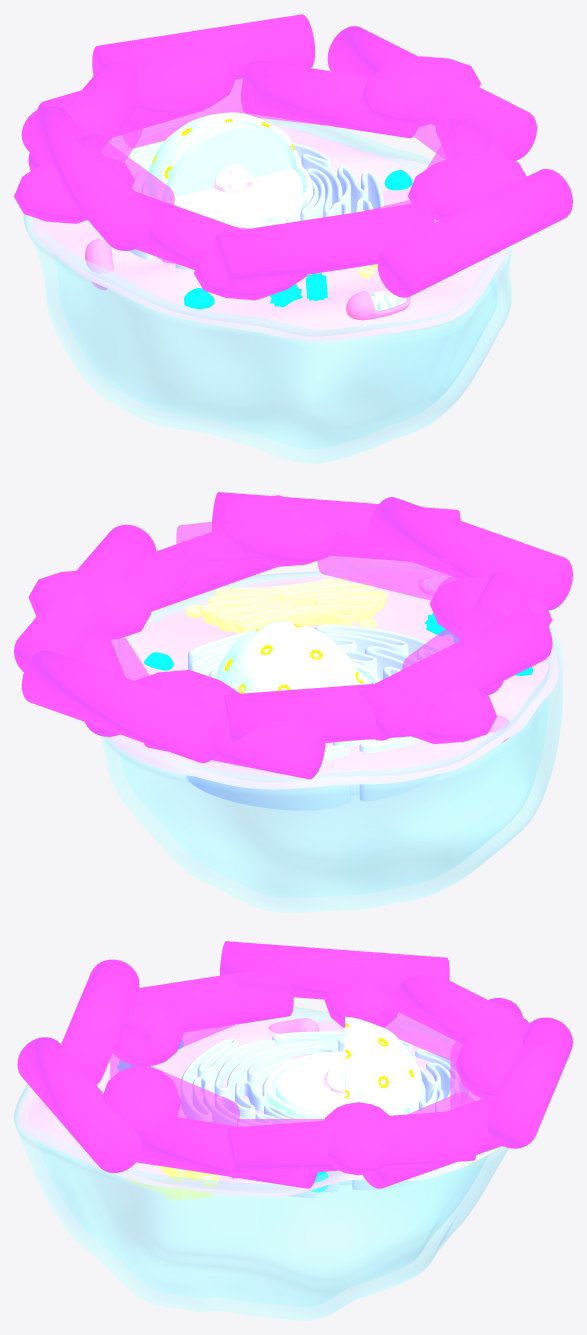
File: heart-cellular-progressing-2.glb
3 views of the same model, one above another, from view 1: azimuth 30°, elevation 25°; view 2: azimuth 150°, elevation 25°; view 3: azimuth 270°, elevation 25° (orthographic). The views are drawn at different scales.
Visible parts, largest first — view 1: Sphere_0, Sphere.001_0, AmyloidFibril_6, AmyloidFibril_7, Roundcube_0, AmyloidFibril_2, AmyloidFibril_0, AmyloidFibril_8, AmyloidFibril_4, AmyloidClump_1, BezierCurve_0, AmyloidExtra_1 (+17 smaller); view 2: Sphere_0, Sphere.001_0, AmyloidFibril_4, AmyloidFibril_7, BezierCurve_0, AmyloidFibril_2, BezierCurve.002_0, Icosphere_0, AmyloidFibril_9, AmyloidClump_4, AmyloidFibril_0, AmyloidFibril_1 (+15 smaller); view 3: Sphere_0, BezierCurve_0, Sphere.001_0, AmyloidFibril_0, AmyloidFibril_2, AmyloidFibril_6, Icosphere_0, AmyloidFibril_3, AmyloidFibril_4, AmyloidFibril_7, AmyloidFibril_9, AmyloidExtra_4 (+16 smaller).
Part boxes in pixels (x1,y1,x2,y2): Sphere_0: (24,118,512,463); Sphere.001_0: (31,124,508,340); AmyloidFibril_6: (377,169,572,297); AmyloidFibril_7: (213,202,435,287); Roundcube_0: (161,122,303,217); AmyloidFibril_2: (21,106,154,250); AmyloidFibril_0: (327,26,536,161); AmyloidFibril_8: (241,61,418,138); AmyloidFibril_4: (92,14,315,78); AmyloidClump_1: (133,47,237,117); BezierCurve_0: (123,140,384,271); AmyloidExtra_1: (255,74,389,132); Sphere_0: (101,567,563,912); Sphere.001_0: (107,569,558,789); AmyloidFibril_4: (21,650,226,762); AmyloidFibril_7: (368,497,572,609); BezierCurve_0: (186,624,442,810); AmyloidFibril_2: (358,609,552,740); BezierCurve.002_0: (185,577,387,633); Icosphere_0: (216,621,380,693); AmyloidFibril_9: (224,683,427,745); AmyloidClump_4: (216,495,338,566); AmyloidFibril_0: (14,524,156,671); AmyloidFibril_1: (130,529,276,611); Sphere_0: (14,1007,508,1320); BezierCurve_0: (181,1031,472,1198); Sphere.001_0: (17,1020,501,1196); AmyloidFibril_0: (226,1109,476,1178); AmyloidFibril_2: (220,941,449,999); AmyloidFibril_6: (17,1037,141,1172); Icosphere_0: (267,1016,422,1120); AmyloidFibril_3: (129,971,293,1032); AmyloidFibril_4: (487,1017,572,1148); AmyloidFibril_7: (55,959,139,1085); AmyloidFibril_9: (392,974,529,1043); AmyloidExtra_4: (237,953,363,993).
Size of the model in its own units: 2.87 by 1.76 by 3.29.
